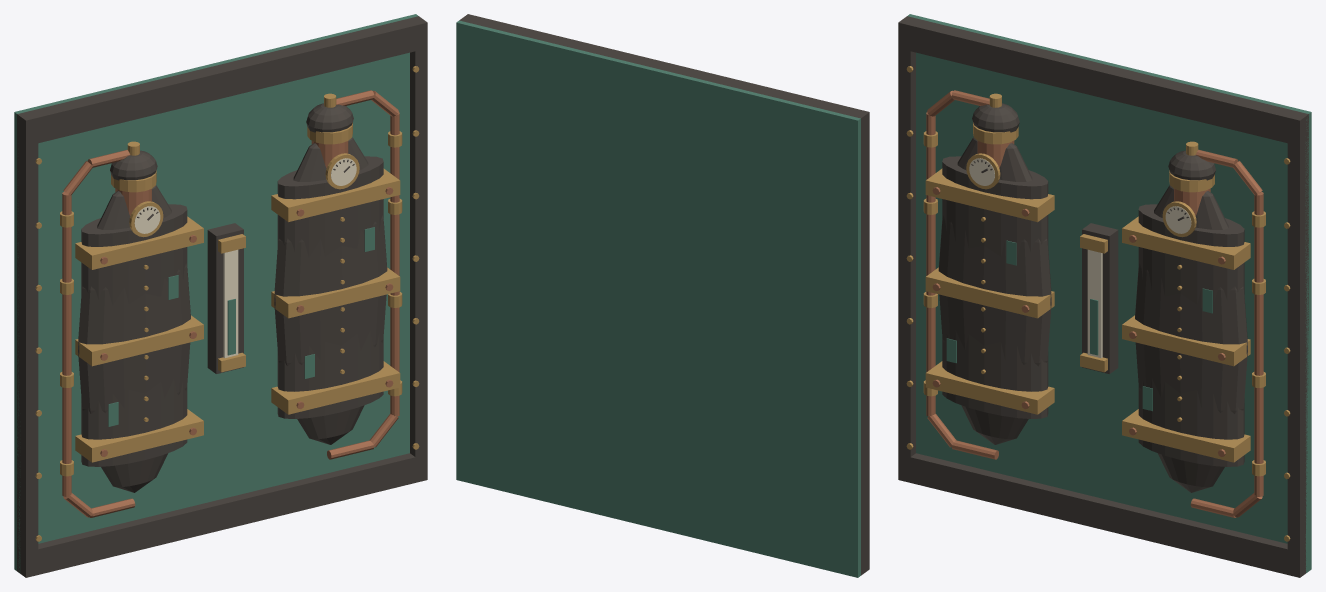
Rendered from accumulator-bank.glb.
3 views of the same model, side by side, from view 1: azimuth 30°, elevation 25°; view 2: azimuth 150°, elevation 25°; view 3: azimuth 330°, elevation 25° (orthographic).
Visible parts, largest first — view 1: accumulator-cast iron, accumulator-oxidized copper, accumulator-aged brass, accumulator-copper, accumulator-porcelain; view 2: accumulator-oxidized copper, accumulator-cast iron; view 3: accumulator-cast iron, accumulator-oxidized copper, accumulator-aged brass, accumulator-copper, accumulator-porcelain.
Boxes of the visible parts, box(x1,y1,x2,y2) form: accumulator-cast iron: box(17, 16, 427, 577); accumulator-oxidized copper: box(14, 14, 418, 573); accumulator-aged brass: box(35, 66, 419, 541); accumulator-copper: box(62, 90, 399, 517); accumulator-porcelain: box(134, 158, 356, 358); accumulator-oxidized copper: box(456, 20, 860, 577); accumulator-cast iron: box(459, 14, 869, 575); accumulator-cast iron: box(898, 16, 1308, 577); accumulator-oxidized copper: box(907, 14, 1311, 573); accumulator-aged brass: box(906, 66, 1290, 541); accumulator-copper: box(926, 90, 1263, 517); accumulator-porcelain: box(969, 158, 1191, 358).
Bounding box in the file's own units: 2.62 × 2.85 × 0.365.
